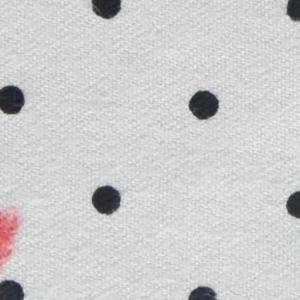Stain: (1, 203, 29, 281)
